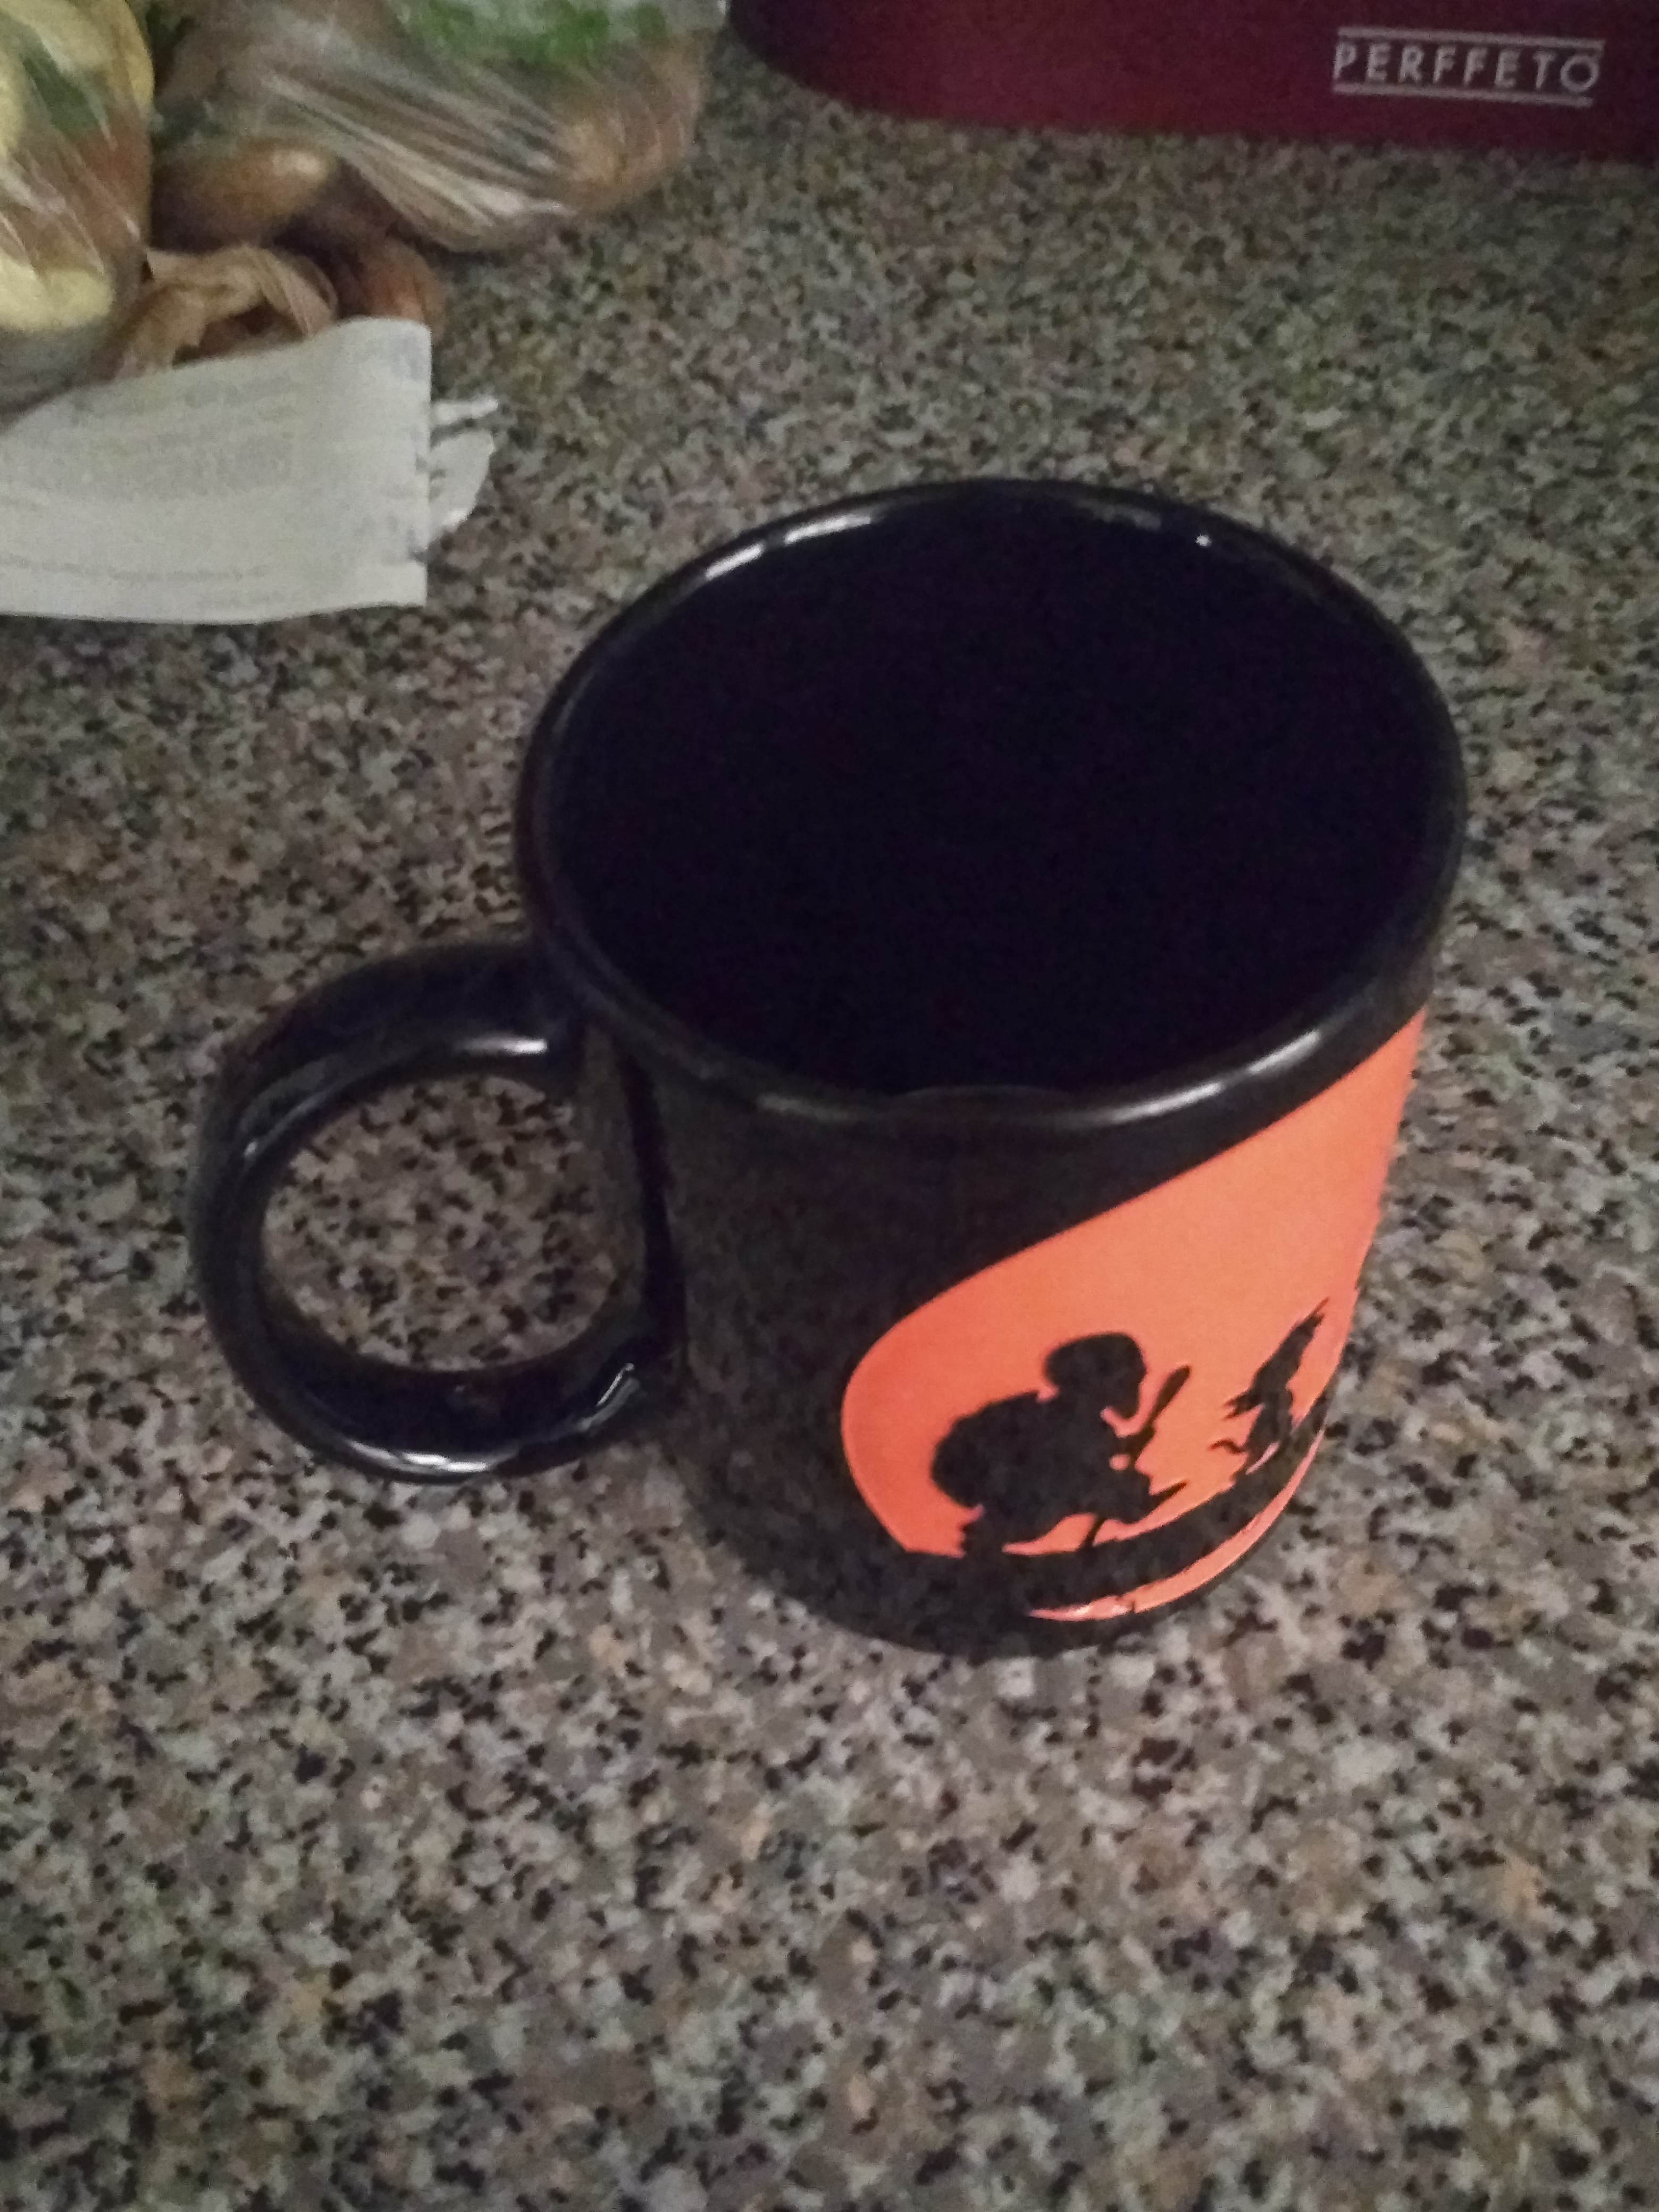cup: (164, 458, 1492, 1691)
